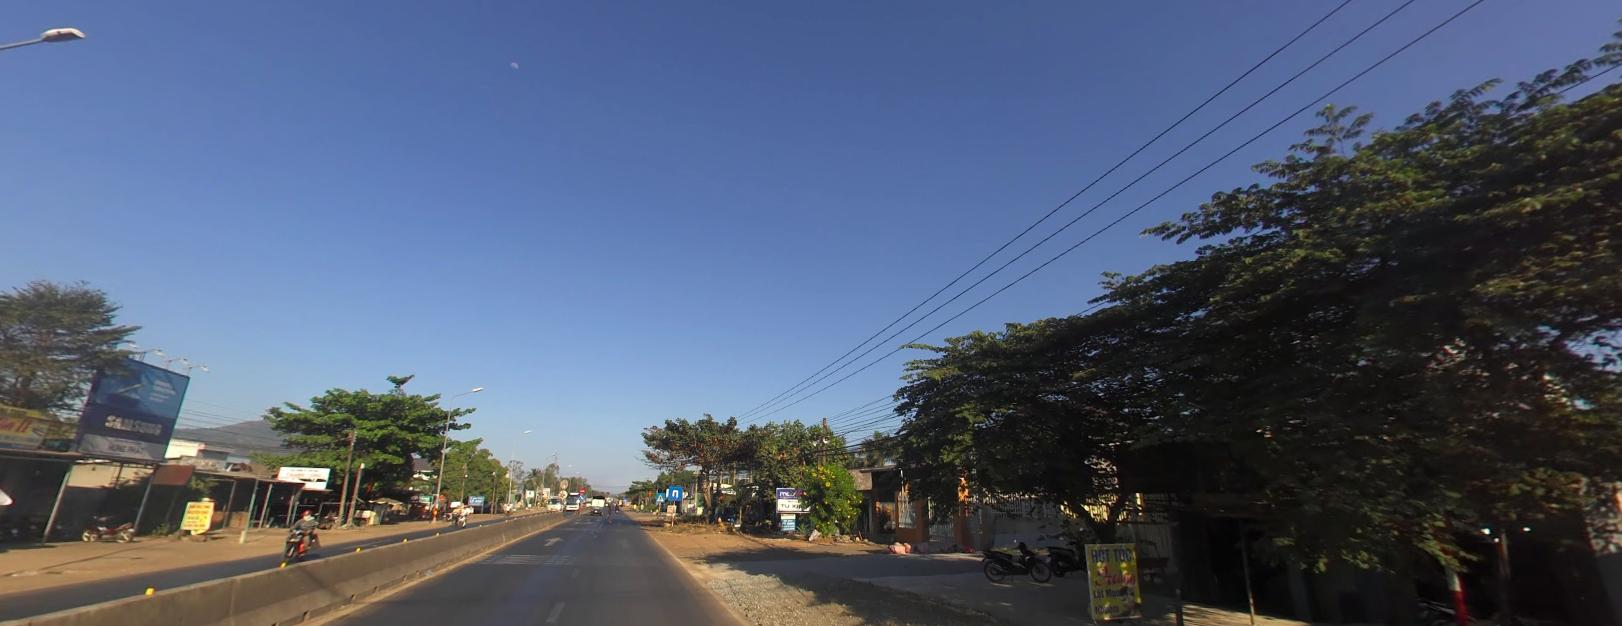Cam nguoc chieu: (579, 486, 585, 493)
Hieu lenh: (578, 491, 584, 498)
